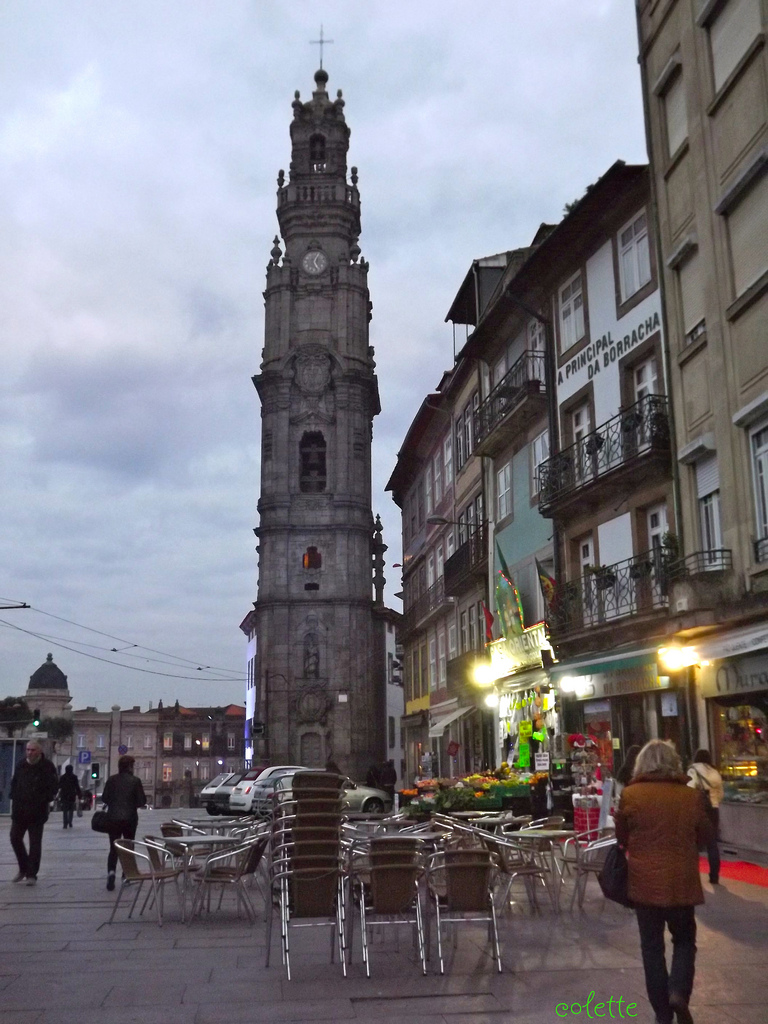clerigos: (250, 23, 382, 809)
